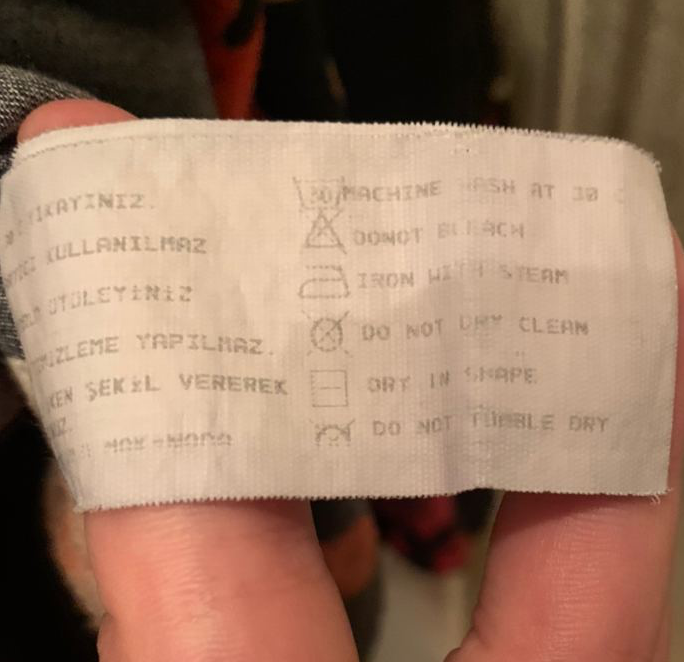do_not_bleach: (295, 310, 357, 361), (296, 210, 350, 257)
do_not_tumble_drying: (306, 414, 361, 452)
dry_flat: (304, 366, 352, 410)
wash_at_or_below_30: (292, 174, 345, 211)
